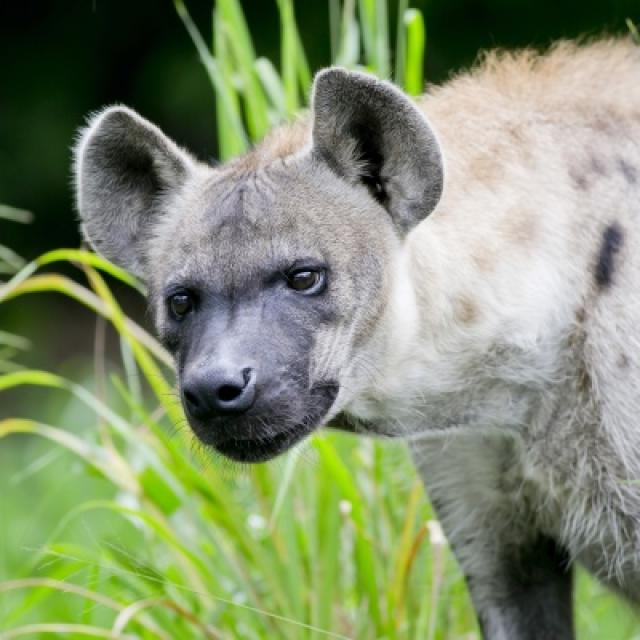hyena: (70, 35, 638, 638)
